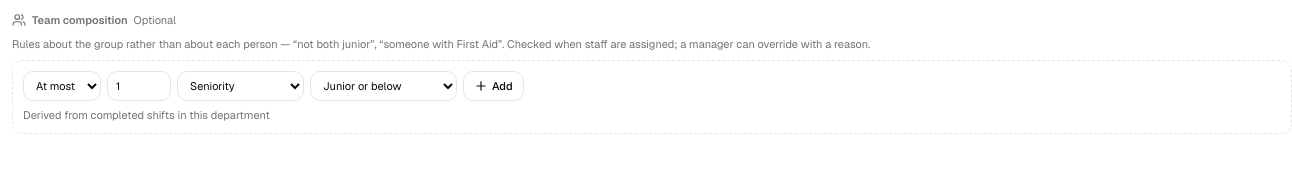
Test: CompositionRulesEditor › refuses a certification rule with no name
The width and height of the screenshot is (1292, 173).
Select "Certification" in the dropdown named "Rule type" at coordinates (240, 86), box [177,71,304,101]
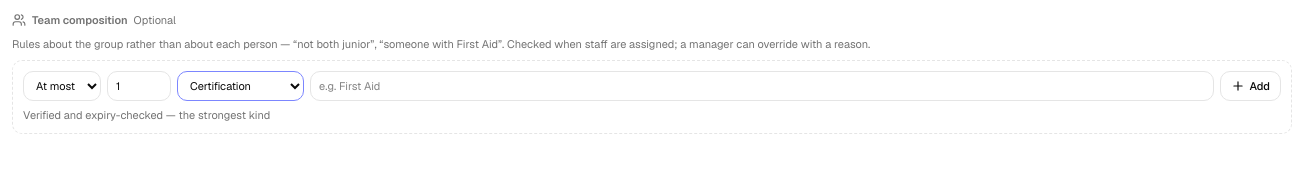
Click the button "Add" at coordinates (1251, 86), box [1220,71,1281,101]
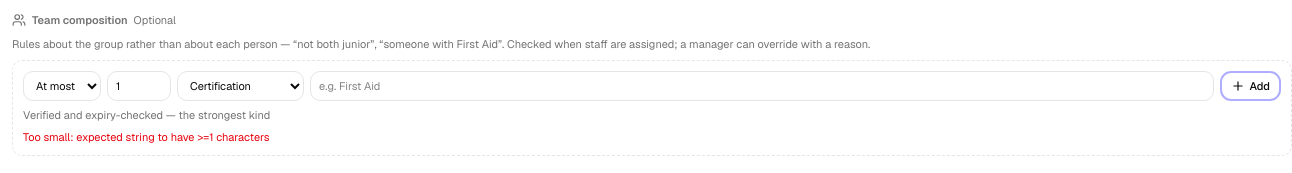
expect the message "Too small: expected string to have >=1 characters" is shown: met, box [23,130,269,144]
